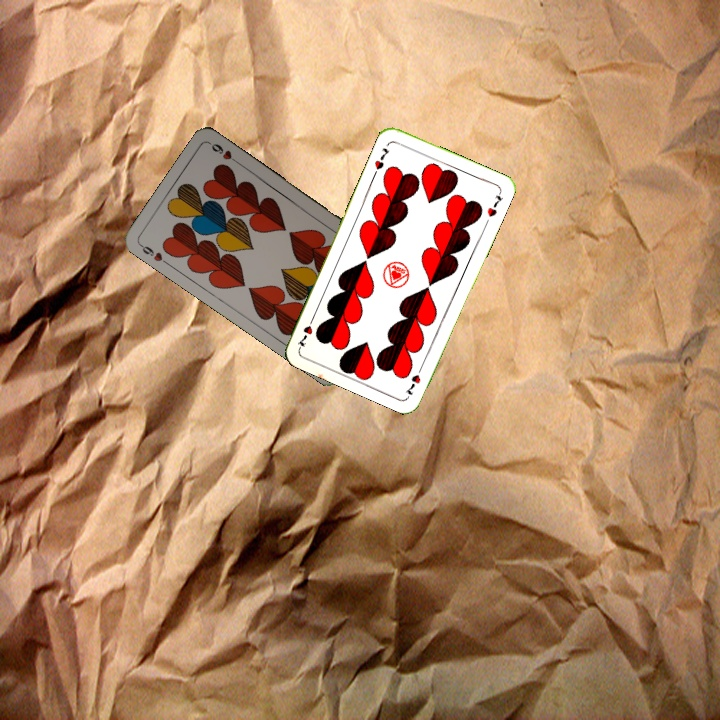H7: (401, 361, 426, 398), (370, 144, 392, 172)
H9: (136, 240, 172, 268)
